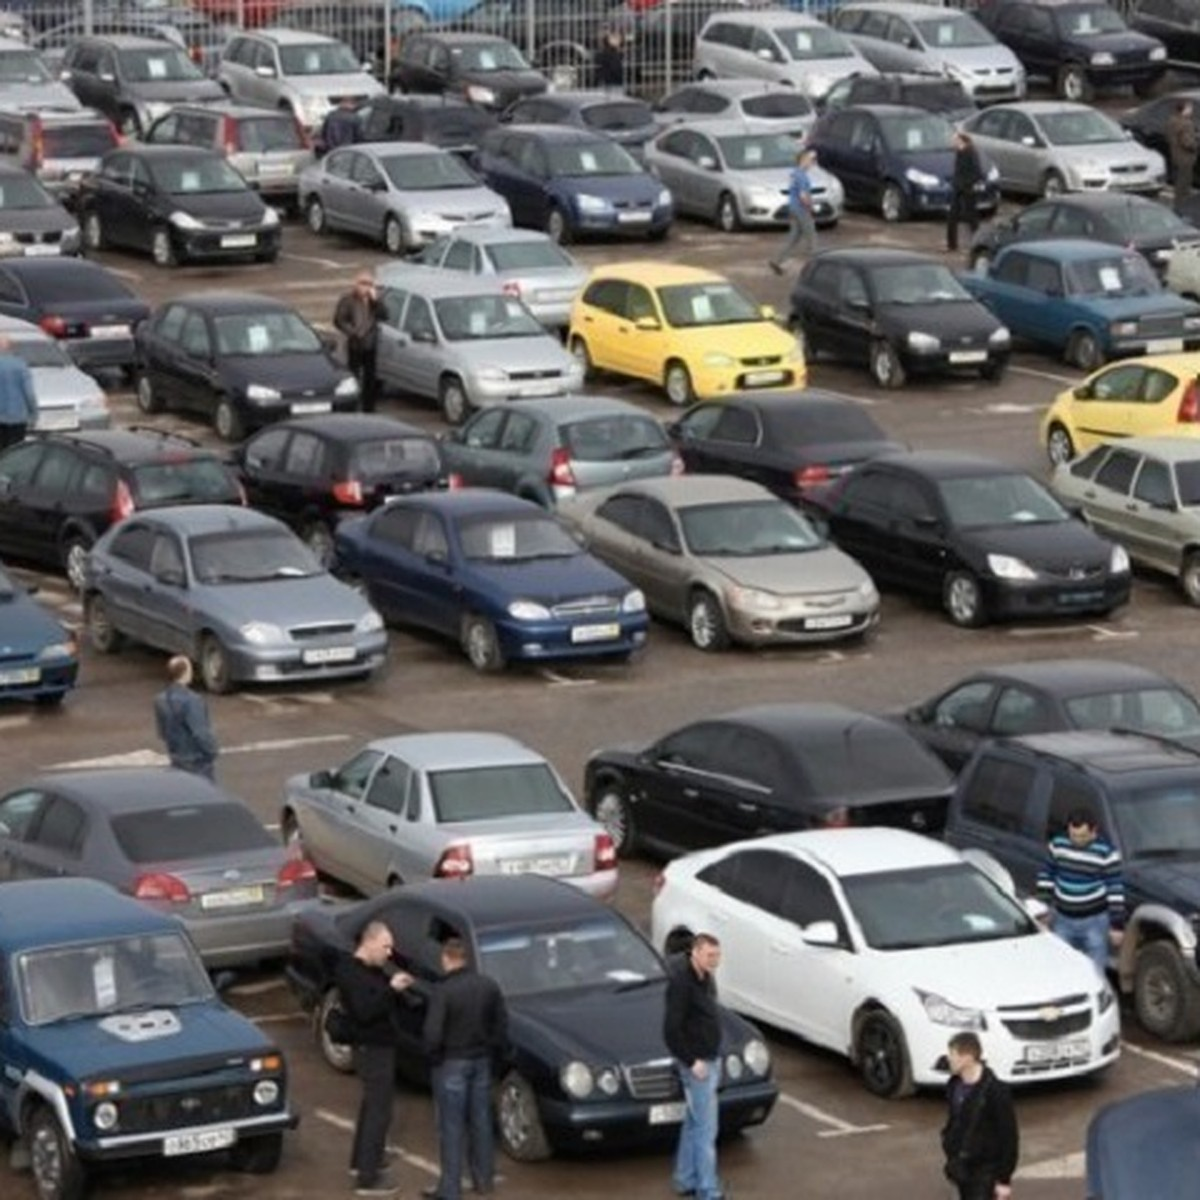Car: (284, 869, 781, 1164), (648, 825, 1123, 1101), (0, 874, 298, 1200), (943, 730, 1200, 1043), (0, 767, 320, 971), (327, 487, 651, 673), (800, 452, 1133, 627), (557, 473, 882, 652), (82, 504, 388, 695), (581, 704, 955, 857), (280, 731, 616, 896), (0, 426, 246, 591), (885, 660, 1200, 774), (568, 262, 807, 407), (230, 413, 462, 562), (374, 266, 585, 425), (135, 292, 359, 442), (959, 235, 1200, 371), (789, 248, 1012, 389), (441, 395, 682, 508), (1051, 436, 1200, 608), (669, 389, 899, 499), (76, 145, 282, 267), (298, 142, 513, 255), (804, 102, 1003, 224), (471, 123, 674, 243), (636, 118, 844, 233), (121, 97, 316, 219), (378, 0, 640, 91), (379, 227, 587, 334), (219, 27, 389, 157), (951, 99, 1167, 198), (830, 0, 1033, 103), (968, 192, 1200, 277), (984, 0, 1169, 103), (0, 254, 149, 378), (1041, 352, 1200, 466), (58, 34, 231, 137), (692, 9, 876, 100), (388, 30, 559, 122), (31, 10, 229, 81), (0, 102, 125, 209), (1086, 1084, 1200, 1200), (0, 312, 111, 431), (652, 76, 818, 146), (0, 566, 79, 710), (498, 90, 659, 158), (353, 92, 498, 160), (812, 66, 981, 122), (0, 162, 84, 257), (1118, 89, 1200, 185), (0, 36, 80, 108), (186, 0, 291, 32), (391, 0, 480, 33), (1165, 243, 1200, 303), (776, 0, 855, 25), (0, 9, 38, 46)
